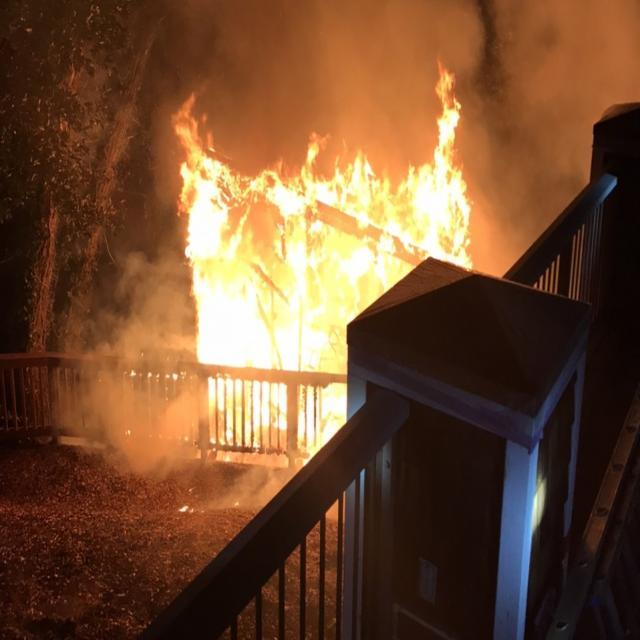Fire: (159, 64, 476, 442)
